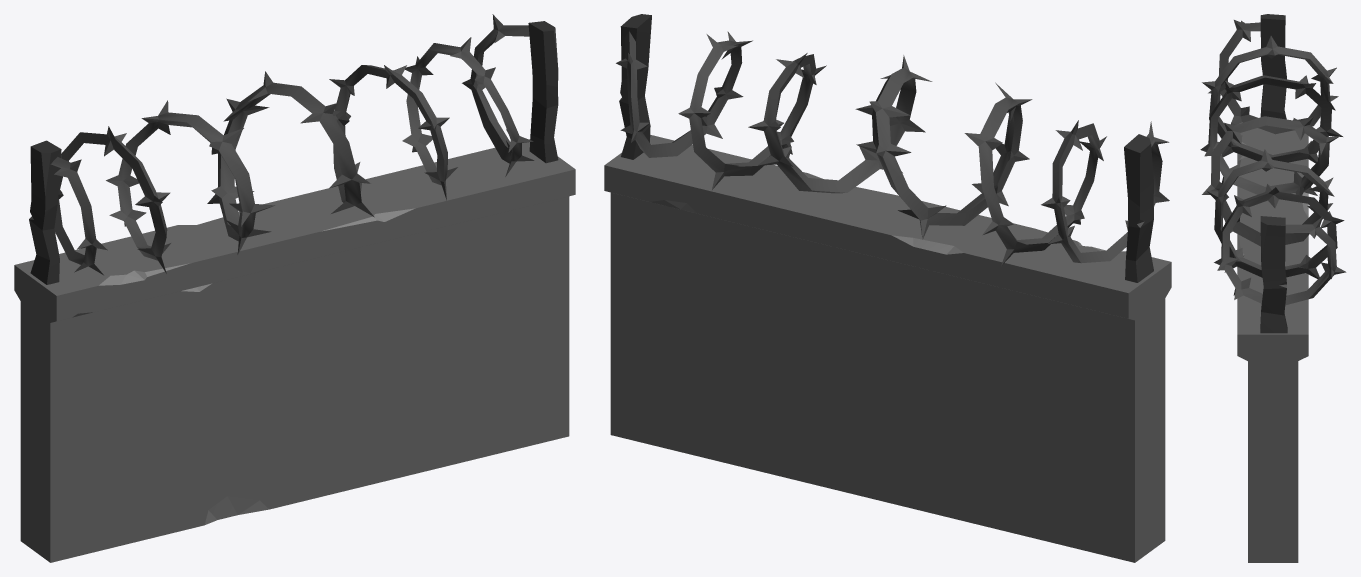
The model's file is 20C_IronFence_200.fbx.
The picture shows the model from 3 angles, left to right: view 1: azimuth 30°, elevation 25°; view 2: azimuth 150°, elevation 25°; view 3: azimuth 270°, elevation 25°; orthographic projection. The views are drawn at different scales.
Parts seen in each view (by area): view 1: 20C_IronFence_200; view 2: 20C_IronFence_200; view 3: 20C_IronFence_200.
Part boxes in pixels (<box>): 20C_IronFence_200: <box>14,14,575,562</box>; 20C_IronFence_200: <box>604,14,1171,562</box>; 20C_IronFence_200: <box>1200,14,1346,562</box>.
Size of the model in its own units: 40.06 by 30.17 by 11.65.
